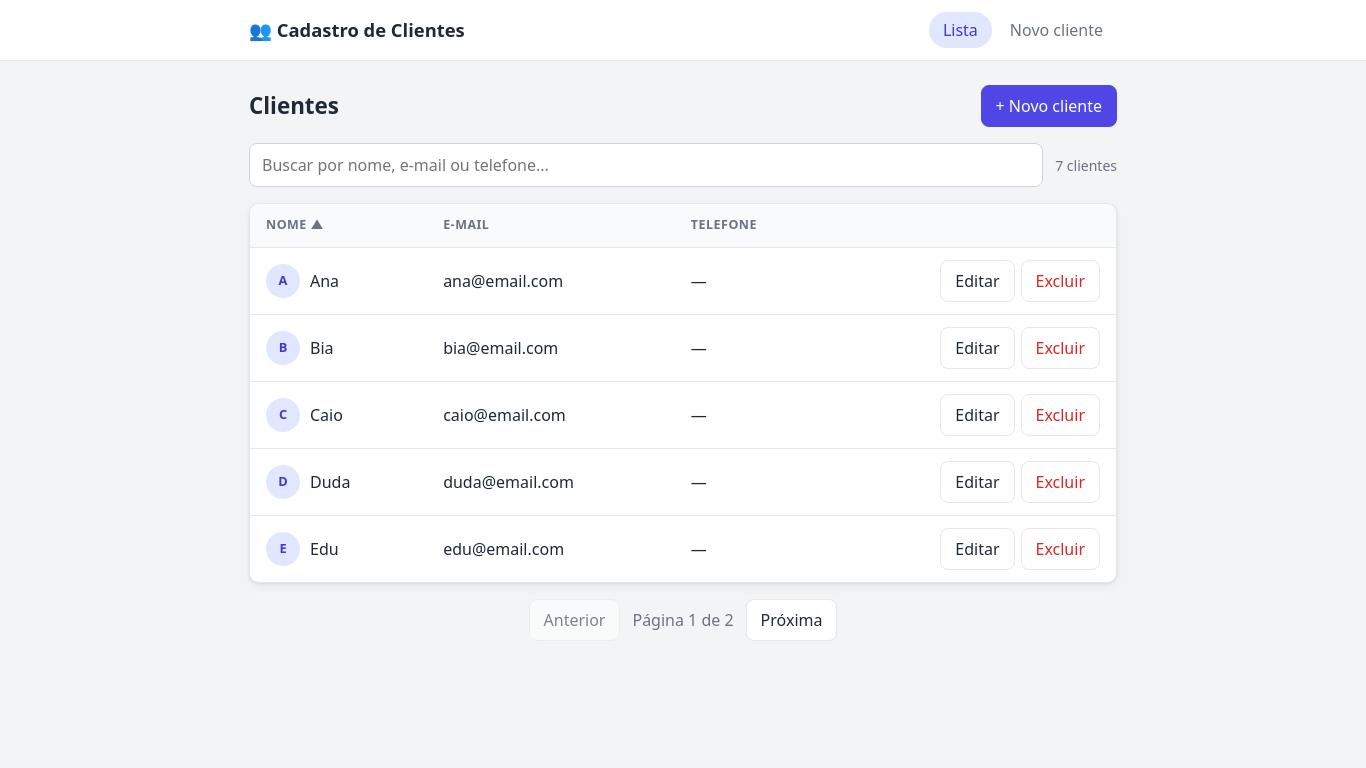
Test case: Lista de clientes › pagina de 5 em 5
The width and height of the screenshot is (1366, 768).
Expected: the text "Página 1 de 2" is shown, [632, 608, 734, 632]
Click the button "Próxima" at (792, 620), box [746, 599, 838, 641]
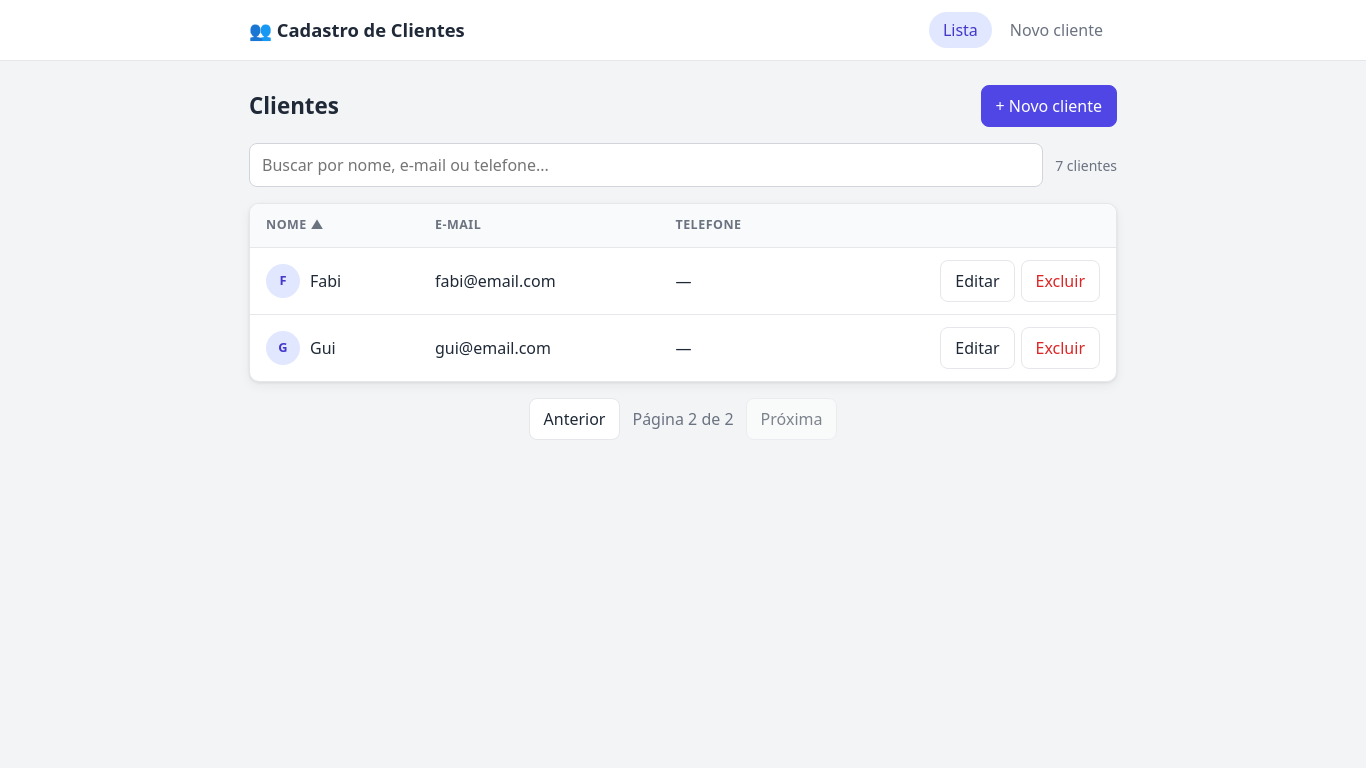
Result: the text "Página 2 de 2" is shown at [632, 407, 734, 431]
